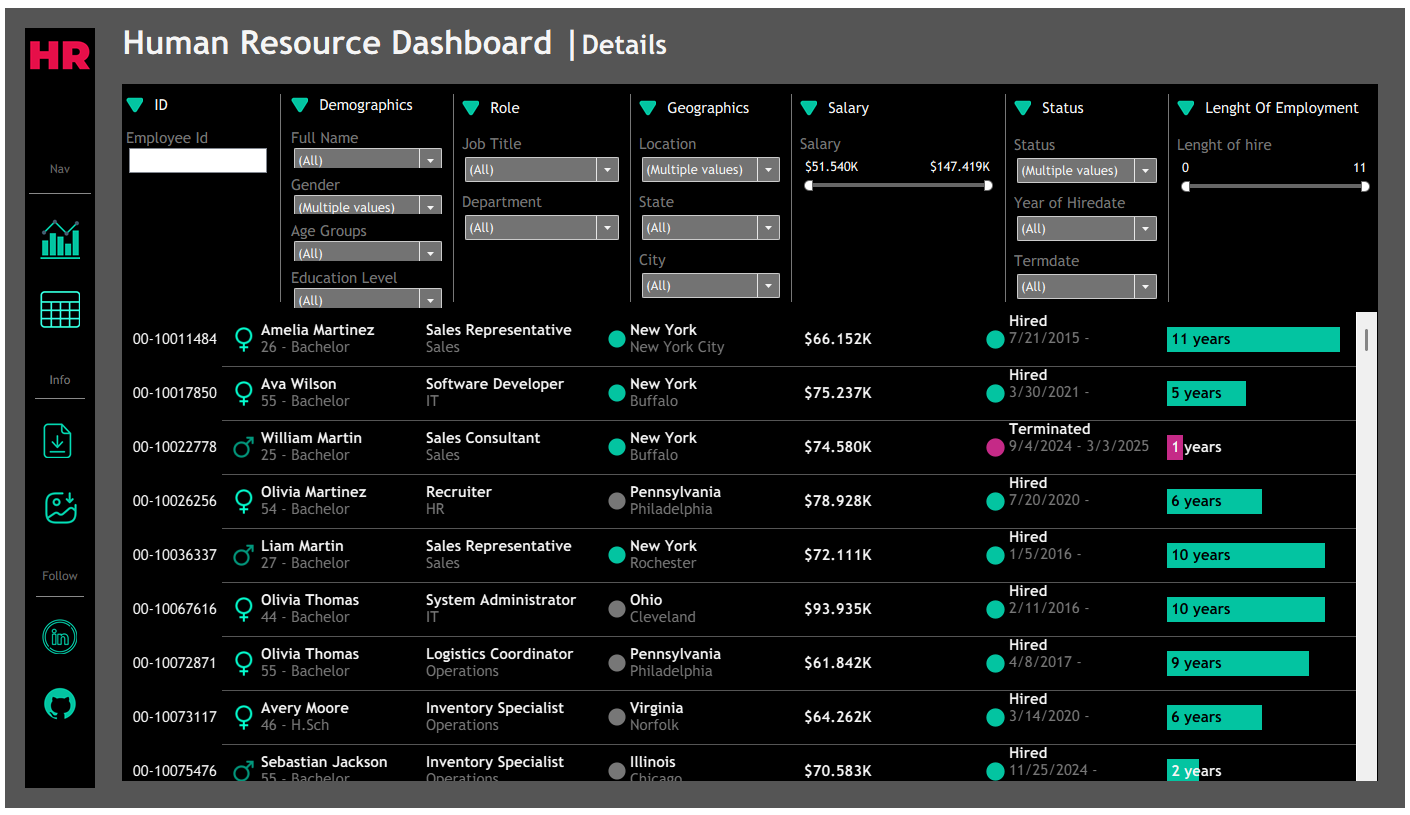

Layout of this report page (visuals, bound fields, positions):
{"tool":"tableau","page":{"name":"HR| Details","canvas":[1400,800],"ordinal":0},"visuals":[{"type":"text","box":[110,0,677,69]},{"type":"blank","box":[787,0,593,69]},{"type":"image","param":"Image/HR logo.png","box":[20,20,70,55]},{"type":"blank","box":[20,75,70,75]},{"type":"dashboard-object","box":[117,76,25,41]},{"type":"text","box":[142,76,126.8,41]},{"type":"blank","box":[268.8,76,13,228]},{"type":"dashboard-object","box":[281.8,76,25,41]},{"type":"text","box":[306.8,76,137,41]},{"type":"blank","box":[443.8,76,9,228]},{"type":"dashboard-object","box":[452.8,76,25,47]},{"type":"text","box":[477.8,76,143,47]},{"type":"blank","box":[620.8,76,9,228]},{"type":"dashboard-object","box":[629.8,76,25,47]},{"type":"text","box":[654.8,76,126.8,47]},{"type":"blank","box":[781.6,76,9,228]},{"type":"dashboard-object","box":[790.6,76,25,47]},{"type":"text","box":[815.6,76,180.2,47]},{"type":"blank","box":[995.8,76,9,228]},{"type":"dashboard-object","box":[1004.8,76,25,48]},{"type":"text","box":[1029.8,76,129,48]},{"type":"blank","box":[1158.8,76,9,228]},{"type":"dashboard-object","box":[1167.8,76,25,48]},{"type":"text","box":[1192.8,76,180.2,48]},{"type":"filter","title":"Employee Details","param":"[federated.13eno001kv1afk14uwkqt0cz7wpo].[none:employee_id:nk]","box":[117,117,151.8,55]},{"type":"filter","title":"Employee Details","param":"[federated.13eno001kv1afk14uwkqt0cz7wpo].[none:Calculation_0225702203875353:nk]","box":[281.8,117,162,46.7]},{"type":"filter","title":"Employee Details","param":"[federated.13eno001kv1afk14uwkqt0cz7wpo].[none:job_title:nk]","box":[452.8,123,168,58]},{"type":"filter","title":"Employee Details","param":"[federated.13eno001kv1afk14uwkqt0cz7wpo].[none:Calculation_0225702064361480:nk]","box":[629.8,123,151.8,58]},{"type":"filter","title":"Employee Details","param":"[federated.13eno001kv1afk14uwkqt0cz7wpo].[sum:salary:qk]","box":[790.6,123,205.2,70]},{"type":"filter","title":"Employee Details","param":"[federated.13eno001kv1afk14uwkqt0cz7wpo].[none:Calculation_0225702127915022:nk]","box":[1004.8,124,154,58]},{"type":"filter","title":"Employee Details","param":"[federated.13eno001kv1afk14uwkqt0cz7wpo].[sum:Calculation_0225702200614934:qk]","box":[1167.8,124,205.2,70]},{"type":"text","box":[20,150,70,22]},{"type":"filter","title":"Employee Details","param":"[federated.13eno001kv1afk14uwkqt0cz7wpo].[none:gender:nk]","box":[281.8,163.7,162,46.7]},{"type":"blank","box":[20,172,70,32]},{"type":"filter","title":"Employee Details","param":"[federated.13eno001kv1afk14uwkqt0cz7wpo].[none:department:nk]","box":[452.8,181,168,58]},{"type":"filter","title":"Employee Details","param":"[federated.13eno001kv1afk14uwkqt0cz7wpo].[none:state:nk]","box":[629.8,181,151.8,58]},{"type":"filter","title":"Employee Details","param":"[federated.13eno001kv1afk14uwkqt0cz7wpo].[yr:hiredate:ok]","box":[1004.8,182,154,58]},{"type":"filter","title":"Employee Details","param":"[federated.13eno001kv1afk14uwkqt0cz7wpo].[none:Calculation_0225702070870028:nk]","box":[281.8,210.5,162,46.7]},{"type":"dashboard-object","box":[27,211,56,40]},{"type":"filter","title":"Employee Details","param":"[federated.13eno001kv1afk14uwkqt0cz7wpo].[none:city:nk]","box":[629.8,239,151.8,58]},{"type":"filter","title":"Employee Details","param":"[federated.13eno001kv1afk14uwkqt0cz7wpo].[none:termdate:ok]","box":[1004.8,240,154,58]},{"type":"blank","box":[27,251,56,30]},{"type":"filter","title":"Employee Details","param":"[federated.13eno001kv1afk14uwkqt0cz7wpo].[none:education_level:nk]","box":[281.8,257.2,162,46.8]},{"type":"dashboard-object","box":[27,281,56,40]},{"type":"worksheet","title":"Employee Details","mark":"Shape","rows":["employee_id"],"cols":["Calculation_0225702203076632","Calculation_0225702203076632","Calculation_0225702203076632","Calculation_0225702203076632","Calculation_0225702203076632","Calculation_0225702200614934"],"box":[117,304,1256,469]},{"type":"blank","box":[27,321,56,40]},{"type":"text","box":[27,361,56,22]},{"type":"blank","box":[27,383,56,32]},{"type":"dashboard-object","box":[27,415,56,35]},{"type":"blank","box":[27,450,56,32]},{"type":"dashboard-object","box":[27,482,56,35]},{"type":"blank","box":[27,517,56,40]},{"type":"text","box":[27,557,56,22]},{"type":"blank","box":[27,579,56,32]},{"type":"image","param":"Image/linkedin.png","box":[27,611,56,35]},{"type":"blank","box":[27,646,56,32]},{"type":"image","param":"Image/github (1).png","box":[27,678,56,35]},{"type":"blank","box":[27,713,56,60]}]}

Visuals, with their boxes in screenshot pixels (x1, y1, x2, y2), scaled from the page's 1400x800 canvas onto the 1410x815 screenshot:
text: crop(111, 0, 793, 70)
blank: crop(793, 0, 1390, 70)
image: crop(20, 20, 91, 76)
blank: crop(20, 76, 91, 153)
dashboard-object: crop(118, 77, 143, 119)
text: crop(143, 77, 271, 119)
blank: crop(271, 77, 284, 310)
dashboard-object: crop(284, 77, 309, 119)
text: crop(309, 77, 447, 119)
blank: crop(447, 77, 456, 310)
dashboard-object: crop(456, 77, 481, 125)
text: crop(481, 77, 625, 125)
blank: crop(625, 77, 634, 310)
dashboard-object: crop(634, 77, 659, 125)
text: crop(659, 77, 787, 125)
blank: crop(787, 77, 796, 310)
dashboard-object: crop(796, 77, 821, 125)
text: crop(821, 77, 1003, 125)
blank: crop(1003, 77, 1012, 310)
dashboard-object: crop(1012, 77, 1037, 126)
text: crop(1037, 77, 1167, 126)
blank: crop(1167, 77, 1176, 310)
dashboard-object: crop(1176, 77, 1201, 126)
text: crop(1201, 77, 1383, 126)
"Employee Details" filter: crop(118, 119, 271, 175)
"Employee Details" filter: crop(284, 119, 447, 167)
"Employee Details" filter: crop(456, 125, 625, 184)
"Employee Details" filter: crop(634, 125, 787, 184)
"Employee Details" filter: crop(796, 125, 1003, 197)
"Employee Details" filter: crop(1012, 126, 1167, 185)
"Employee Details" filter: crop(1176, 126, 1383, 198)
text: crop(20, 153, 91, 175)
"Employee Details" filter: crop(284, 167, 447, 214)
blank: crop(20, 175, 91, 208)
"Employee Details" filter: crop(456, 184, 625, 243)
"Employee Details" filter: crop(634, 184, 787, 243)
"Employee Details" filter: crop(1012, 185, 1167, 244)
"Employee Details" filter: crop(284, 214, 447, 262)
dashboard-object: crop(27, 215, 84, 256)
"Employee Details" filter: crop(634, 243, 787, 303)
"Employee Details" filter: crop(1012, 244, 1167, 304)
blank: crop(27, 256, 84, 286)
"Employee Details" filter: crop(284, 262, 447, 310)
dashboard-object: crop(27, 286, 84, 327)
"Employee Details" worksheet (Shape marks): crop(118, 310, 1383, 787)
blank: crop(27, 327, 84, 368)
text: crop(27, 368, 84, 390)
blank: crop(27, 390, 84, 423)
dashboard-object: crop(27, 423, 84, 458)
blank: crop(27, 458, 84, 491)
dashboard-object: crop(27, 491, 84, 527)
blank: crop(27, 527, 84, 567)
text: crop(27, 567, 84, 590)
blank: crop(27, 590, 84, 622)
image: crop(27, 622, 84, 658)
blank: crop(27, 658, 84, 691)
image: crop(27, 691, 84, 726)
blank: crop(27, 726, 84, 787)
